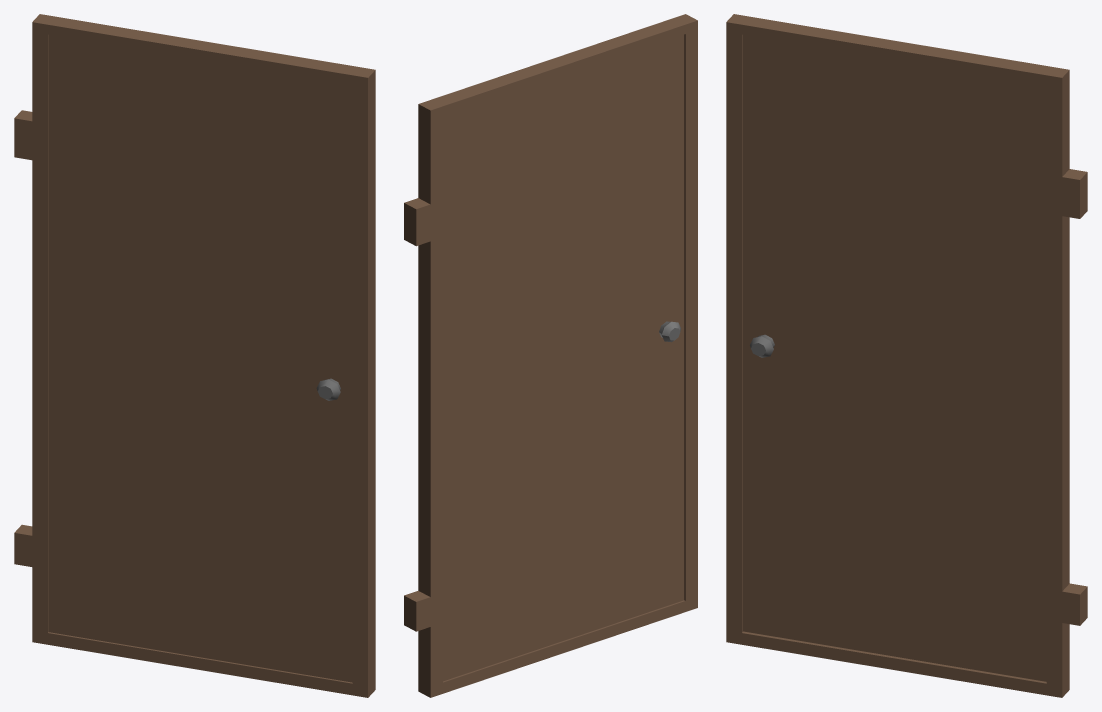
File: Door.fbx
3 views of the same model, side by side, from view 1: azimuth 90°, elevation 25°; view 2: azimuth 150°, elevation 25°; view 3: azimuth 270°, elevation 25° (orthographic). The views are drawn at different scales.
Visible parts, largest first — view 1: Door; view 2: Door; view 3: Door.
Boxes of the visible parts, x1,y1,x2,y2 form: Door: (14,14,375,697); Door: (404,14,697,697); Door: (726,14,1087,697).
Bounding box in the file's own units: 143 × 619 × 327.
